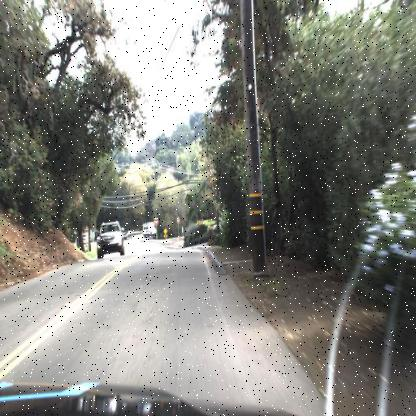car: (91, 218, 126, 260), (94, 217, 126, 258), (142, 221, 158, 238), (122, 226, 136, 244)
